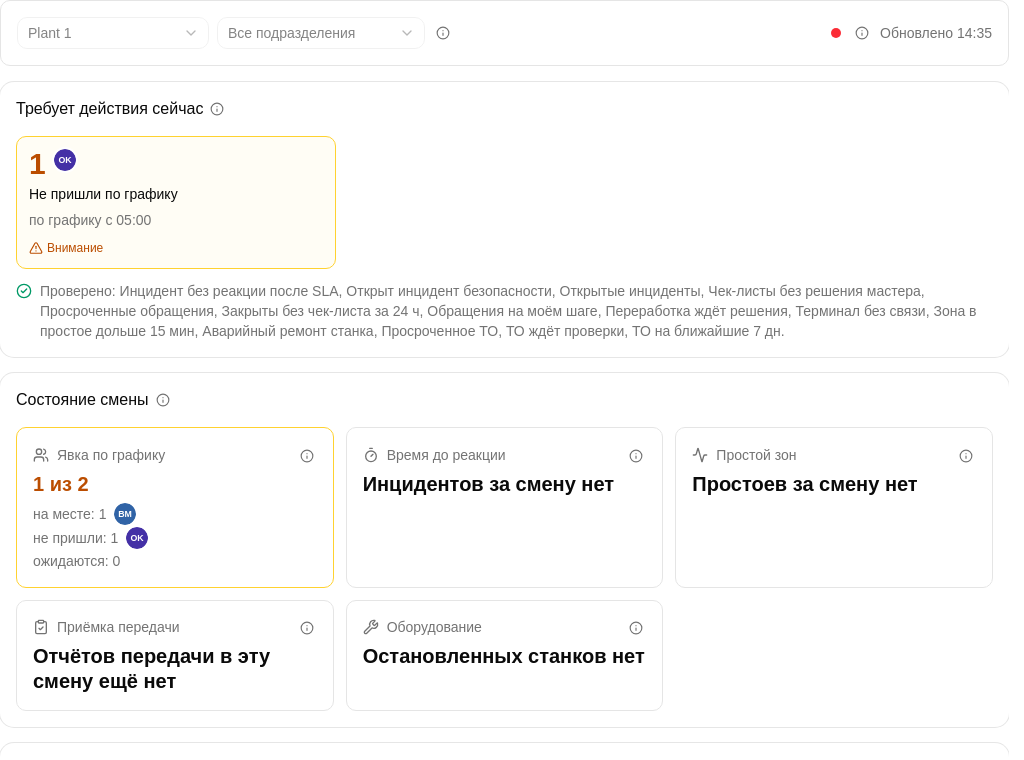
Test case: overview query integration › names who is missing in the staffing tile and in a zone, by face and tooltip
Focus the element showing "OK" next to "не пришли: 1": (137, 538) [126,526,148,548]
(page scrolled)
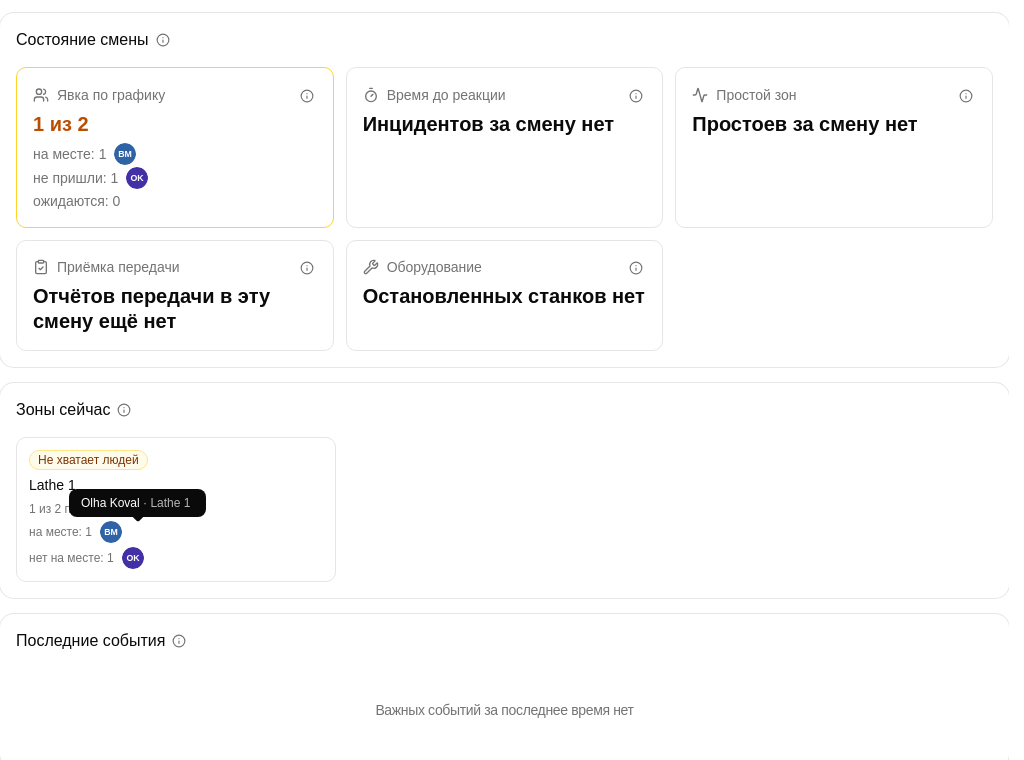
Check: the element showing "OK" next to "нет на месте: 1" is shown, box [122,547,144,569]
Check: the list item "Olha Koval · Lathe 1" is shown, box [81,495,190,511]
